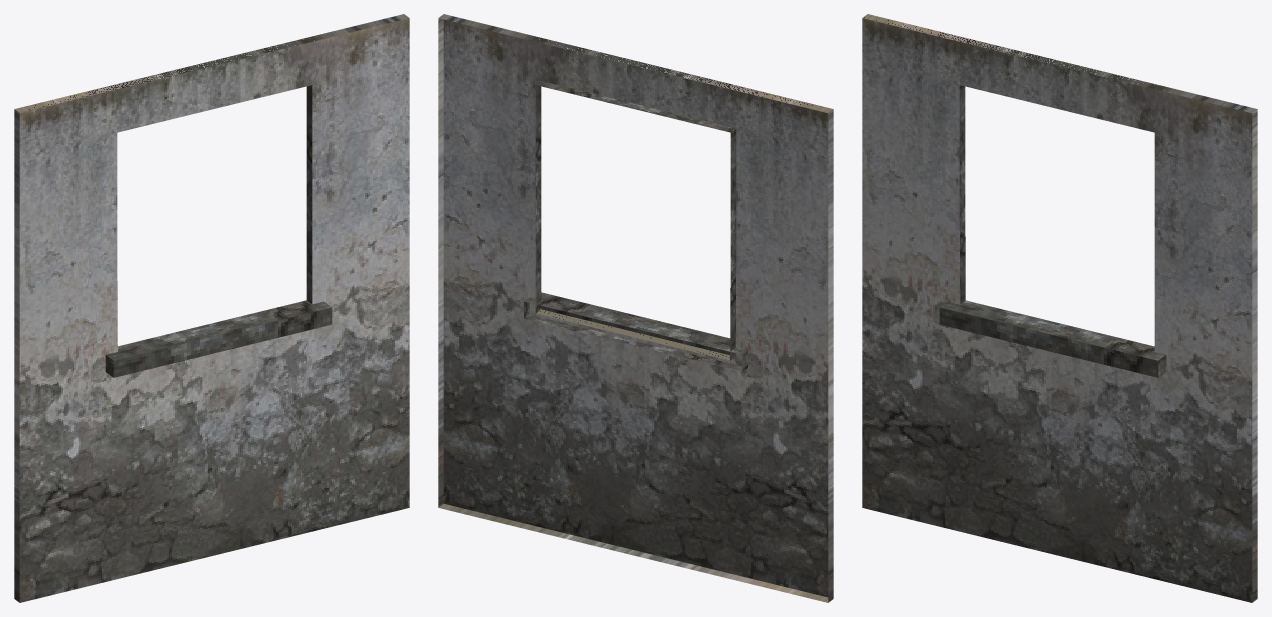
Rendered from window_wall8.glb.
3 views of the same model, side by side, from view 1: azimuth 30°, elevation 25°; view 2: azimuth 150°, elevation 25°; view 3: azimuth 330°, elevation 25° (orthographic).
Visible parts, largest first — view 1: window_wall8; view 2: window_wall8; view 3: window_wall8.
Boxes of the visible parts, x1,y1,x2,y2 form: window_wall8: (14,14,409,602); window_wall8: (438,14,833,602); window_wall8: (862,14,1257,602).
Bounding box in the file's own units: 2 × 2.4 × 0.1226.
Materials: 1 (1 with a texture image).
